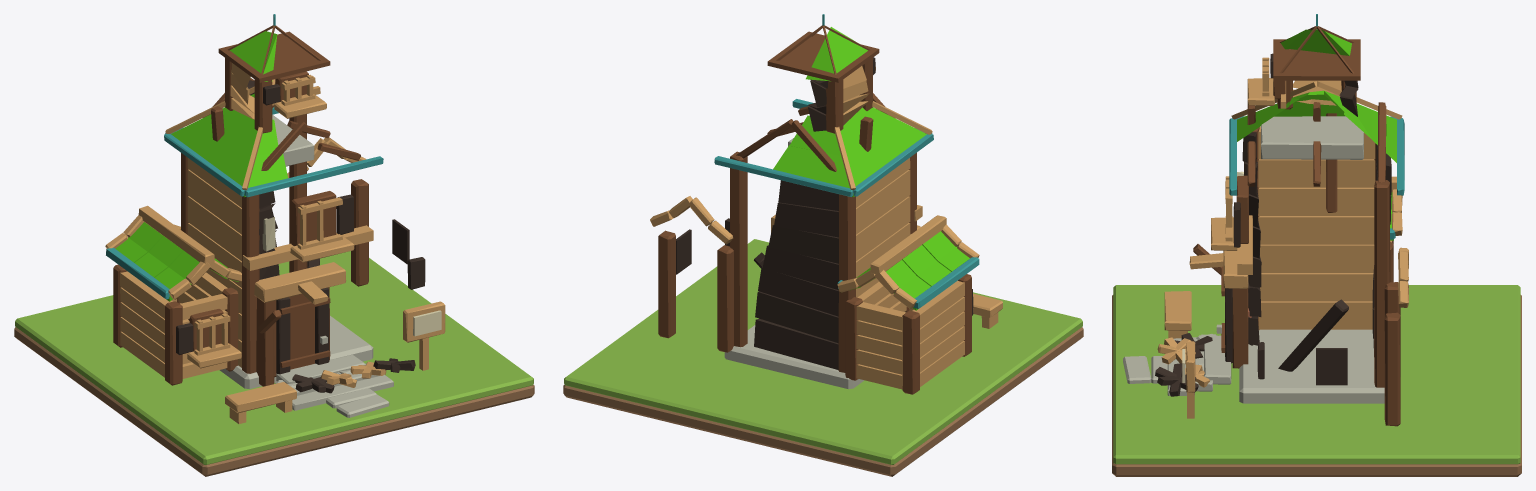
File: town_hall_l05_damaged_LOD1.glb
3 renders of one model, left to right at view 1: azimuth 30°, elevation 25°; view 2: azimuth 150°, elevation 25°; view 3: azimuth 270°, elevation 25°, orthographic. The views are drawn at different scales.
Visible parts, largest first — view 1: town_hall_l05_damaged_foundation.001, town_hall_l05_damaged_grass_tile.001, town_hall_l05_damaged_earth_tile.001, town_hall_l05_damaged_path_stone.005; view 2: town_hall_l05_damaged_foundation.001, town_hall_l05_damaged_grass_tile.001, town_hall_l05_damaged_earth_tile.001; view 3: town_hall_l05_damaged_foundation.001, town_hall_l05_damaged_grass_tile.001, town_hall_l05_damaged_earth_tile.001, town_hall_l05_damaged_path_stone.005.
Part boxes in pixels (x1,y1,x2,y2): town_hall_l05_damaged_foundation.001: (105, 14, 445, 423); town_hall_l05_damaged_grass_tile.001: (15, 251, 533, 464); town_hall_l05_damaged_earth_tile.001: (14, 327, 534, 476); town_hall_l05_damaged_path_stone.005: (336, 394, 389, 417); town_hall_l05_damaged_foundation.001: (650, 14, 1002, 394); town_hall_l05_damaged_grass_tile.001: (564, 239, 1082, 464); town_hall_l05_damaged_earth_tile.001: (563, 327, 1083, 476); town_hall_l05_damaged_foundation.001: (1155, 14, 1408, 426); town_hall_l05_damaged_grass_tile.001: (1113, 285, 1520, 464); town_hall_l05_damaged_earth_tile.001: (1112, 295, 1521, 476); town_hall_l05_damaged_path_stone.005: (1123, 356, 1151, 383).
Bounding box in the file's own units: 3.6 × 3.66 × 3.6.
